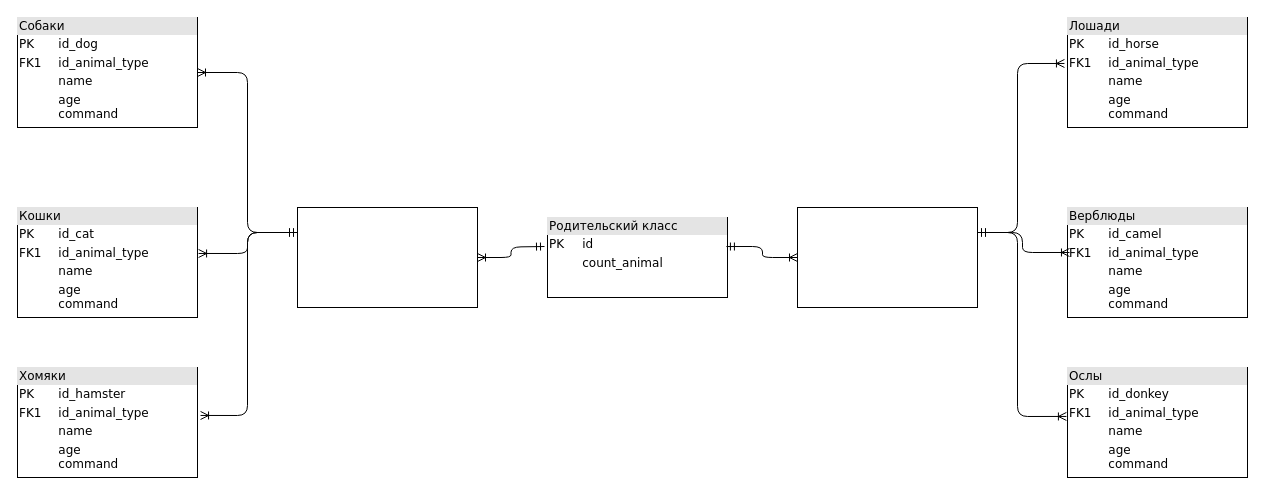
Some shapes in this 1265 by 495 pixel diagram are drawn without their labels. The centre of each missing label's shape, as x and y in pixels:
"Вьючные животные PK id FK1 id_animal name_type" goes at pixel 887 257.
"Домашние животные PK id FK1 id_animal name_type" goes at pixel 387 257.
